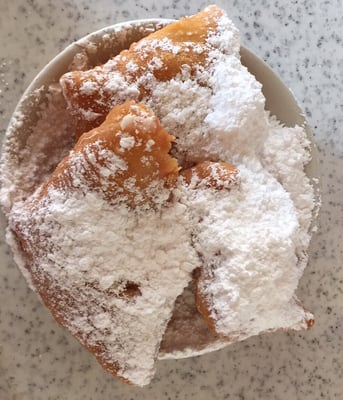curry: (1, 0, 341, 295)
